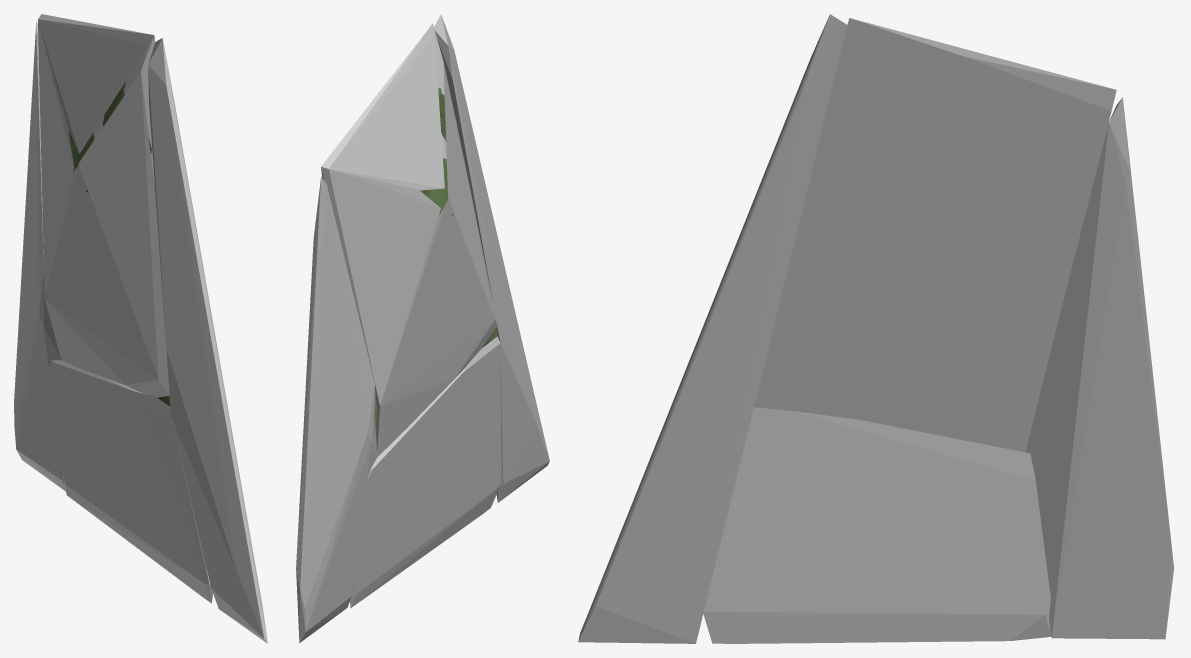
The model's file is SM_Env_Leaves_Clump_02.fbx.
3 views of the same model, side by side, from view 1: azimuth 30°, elevation 25°; view 2: azimuth 150°, elevation 25°; view 3: azimuth 270°, elevation 25° (orthographic). The views are drawn at different scales.
Parts seen in each view (by area): view 1: SM_Env_Leaves_Clump_02_ConvexHulls, SM_Env_Leaves_Clump_02; view 2: SM_Env_Leaves_Clump_02_ConvexHulls, SM_Env_Leaves_Clump_02; view 3: SM_Env_Leaves_Clump_02_ConvexHulls.
Part boxes in pixels (box(x1,y1,x2,y2)): SM_Env_Leaves_Clump_02_ConvexHulls: box(14, 14, 267, 643); SM_Env_Leaves_Clump_02: box(68, 82, 170, 406); SM_Env_Leaves_Clump_02_ConvexHulls: box(296, 14, 549, 642); SM_Env_Leaves_Clump_02: box(374, 87, 497, 442); SM_Env_Leaves_Clump_02_ConvexHulls: box(578, 14, 1173, 643).
Size of the model in its own units: 9.38 by 85.37 by 99.18.
Materials: 2 (1 with a texture image).
